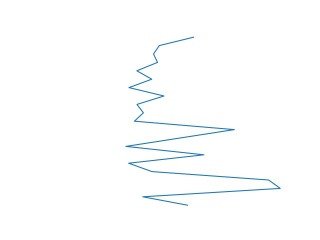crevasseRiverBedLagDeposit: (123, 36, 282, 209)
